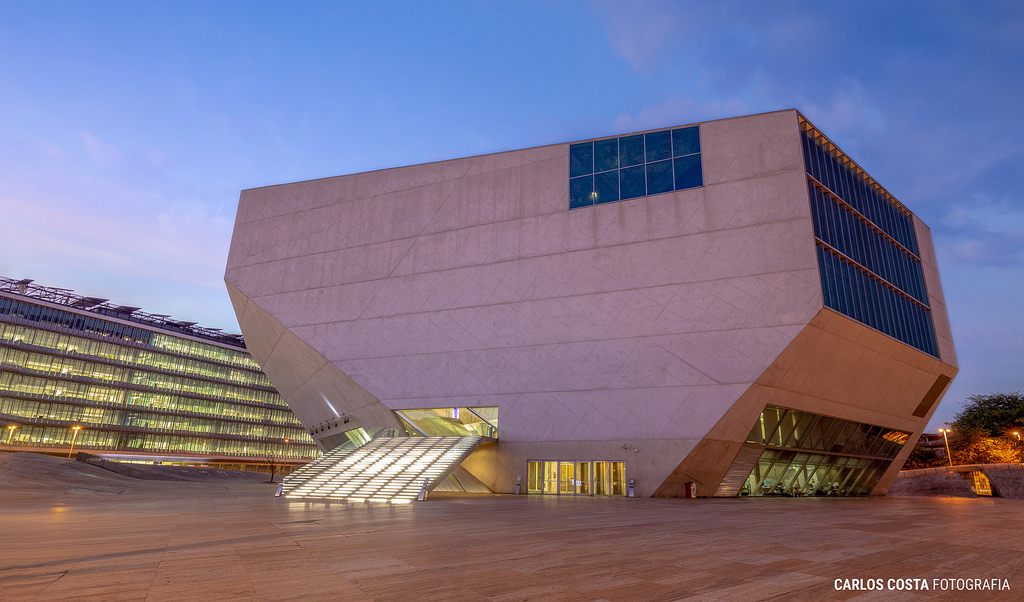musica: (223, 106, 961, 496)
